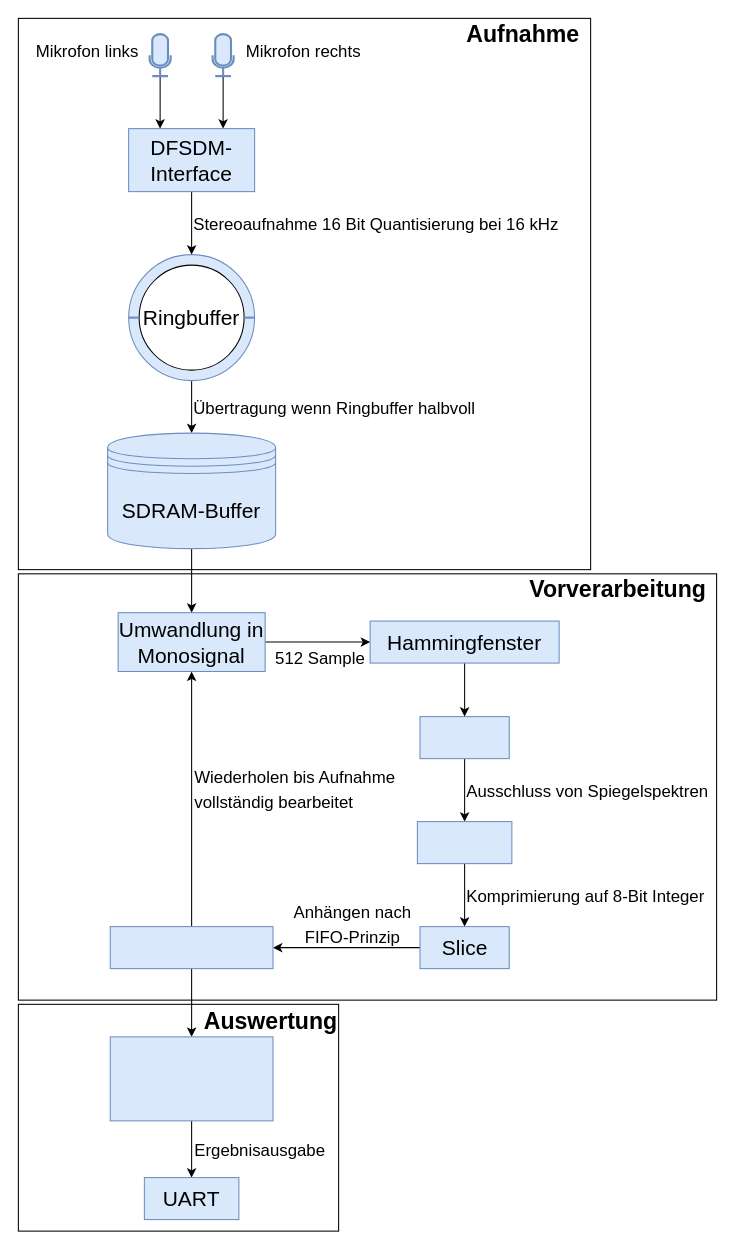
This 745x1250 diagram has some shape labels left out. Each missing label, with the centre of its shape:
Betrag: point (464, 842)
FFT: point (464, 737)
Inferenz des neuronalen Netzes: point (191, 1078)
Spektrogramm: point (191, 947)
